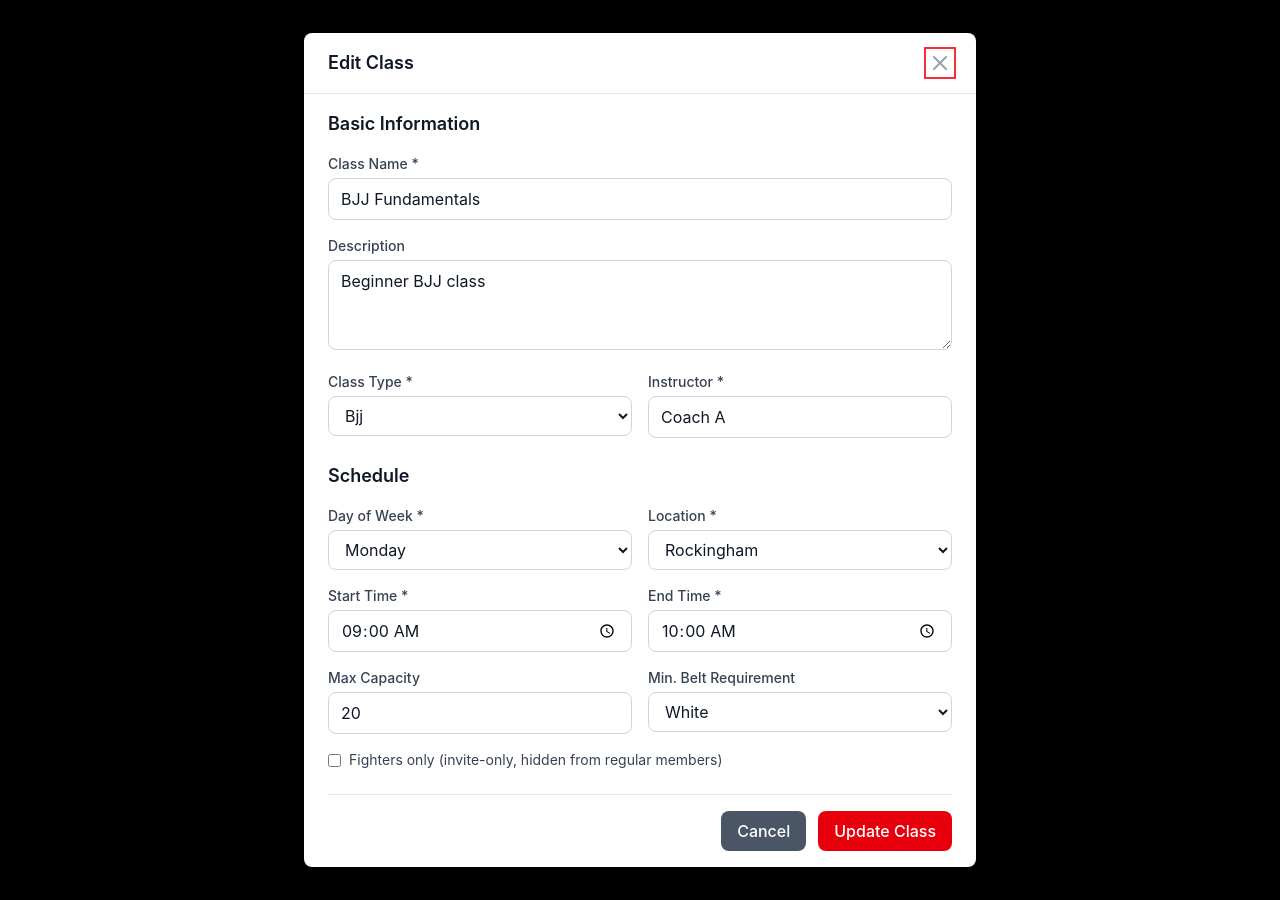
Scenario: EditClassModal › disables button while updating
Click the button "Update Class": click(885, 831) [818, 811, 952, 851]
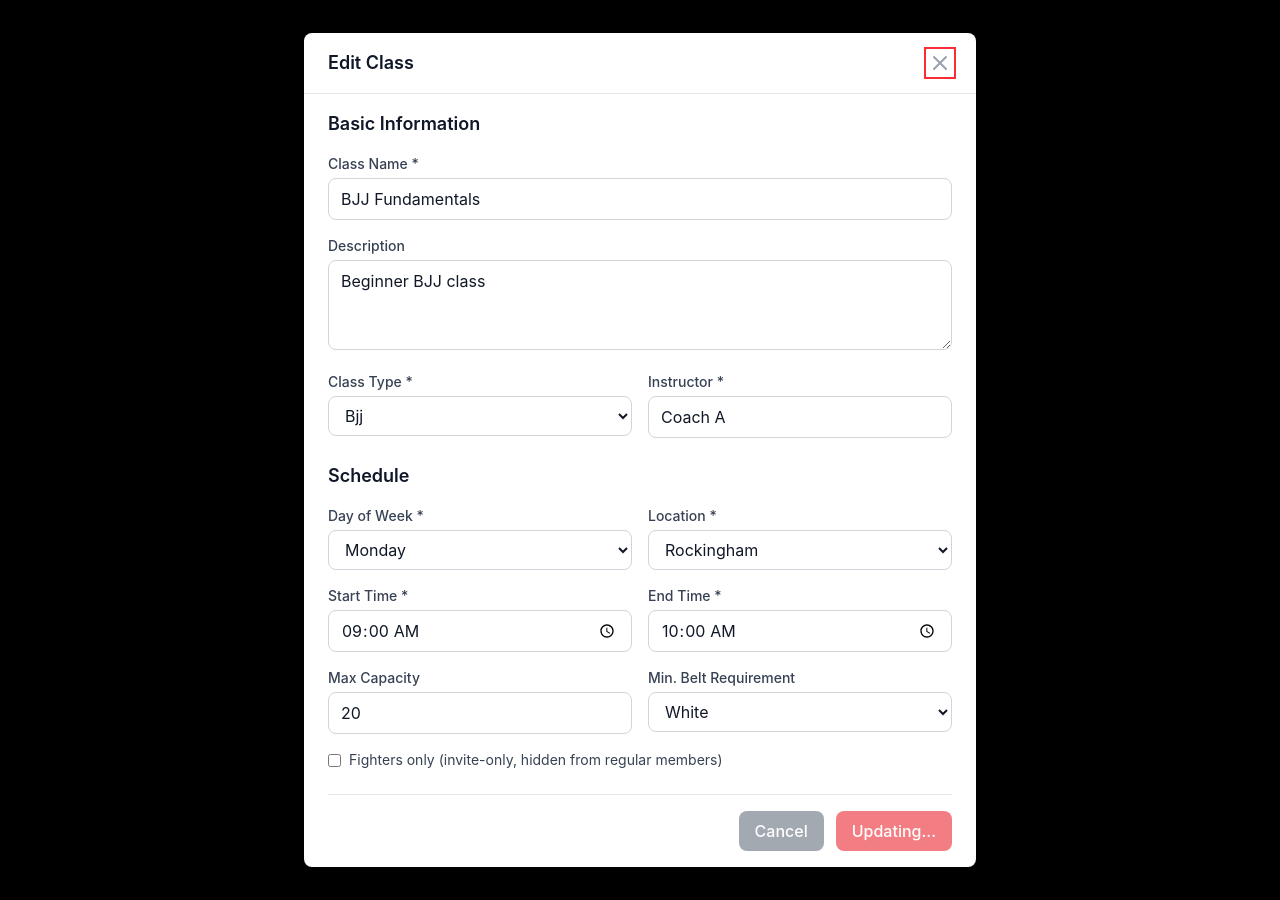
expect the button "Updating..." is disabled: met, box [836, 811, 952, 851]
